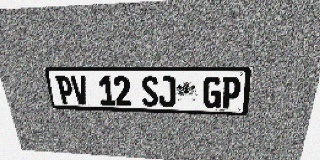1: (97, 76, 116, 105)
2: (113, 76, 132, 106)
G: (203, 76, 222, 108)
J: (158, 76, 175, 107)
P: (221, 76, 242, 109), (55, 76, 75, 104)
S: (141, 76, 159, 107)
V: (70, 76, 90, 105)
